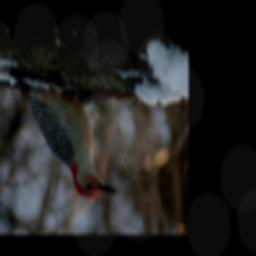Woodpecker: (11, 72, 118, 198)
